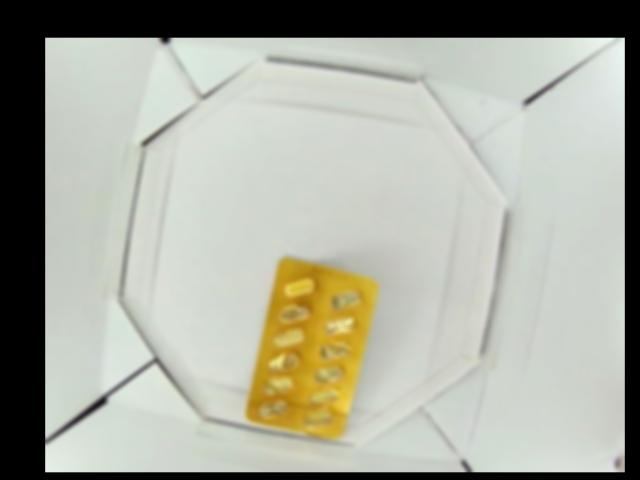Medicine: (244, 253, 377, 441)
